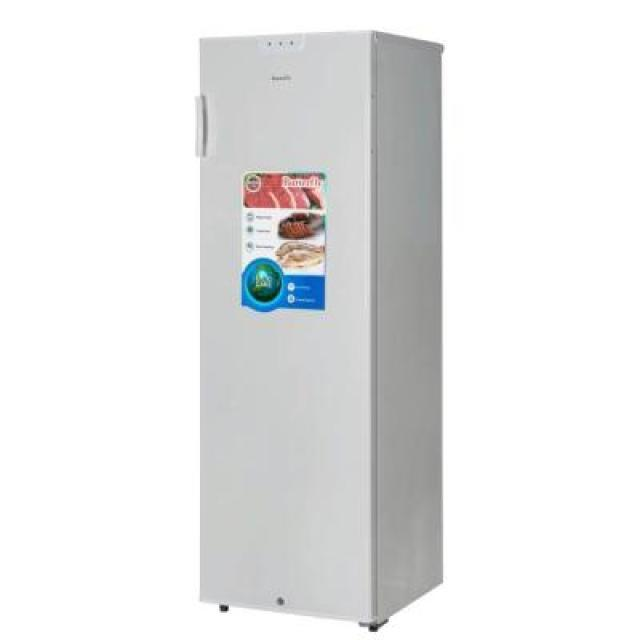refrigerator: (198, 34, 446, 610)
